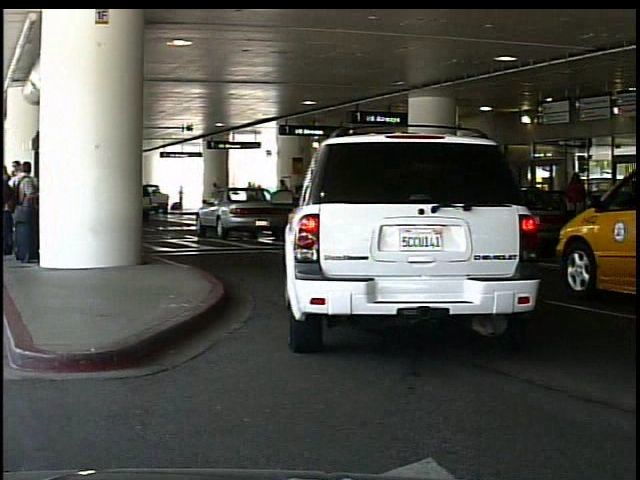person: (561, 168, 592, 254), (212, 177, 227, 211), (179, 185, 187, 212)
